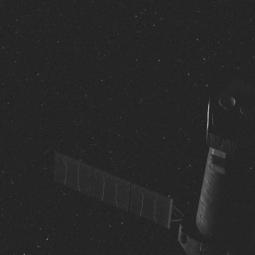xmm_newton: (62, 92, 253, 255)
